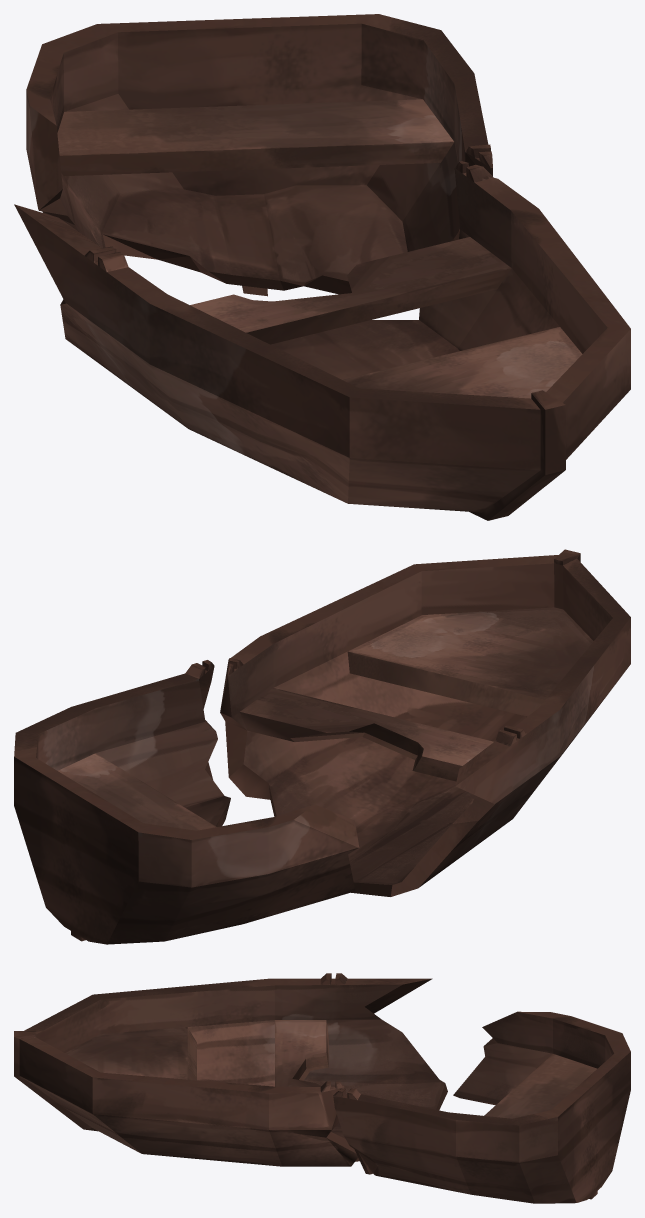
File: Broken_boat01.fbx
3 views of the same model, one above another, from view 1: azimuth 30°, elevation 25°; view 2: azimuth 150°, elevation 25°; view 3: azimuth 270°, elevation 25° (orthographic). The views are drawn at different scales.
Visible parts, largest first — view 1: Broken_boat01_front, Broken_boat01_back; view 2: Broken_boat01_front, Broken_boat01_back; view 3: Broken_boat01_front, Broken_boat01_back.
Part boxes in pixels (left/top/right/bottom): Broken_boat01_front: left=14, top=161, right=630, bottom=520; Broken_boat01_back: left=26, top=14, right=492, bottom=296; Broken_boat01_front: left=220, top=549, right=630, bottom=896; Broken_boat01_back: left=14, top=660, right=359, bottom=944; Broken_boat01_front: left=14, top=973, right=447, bottom=1166; Broken_boat01_back: left=333, top=1011, right=630, bottom=1203.
Bounding box in the file's own units: 2.04 × 0.7638 × 3.62.
Materials: 1 (1 with a texture image).
